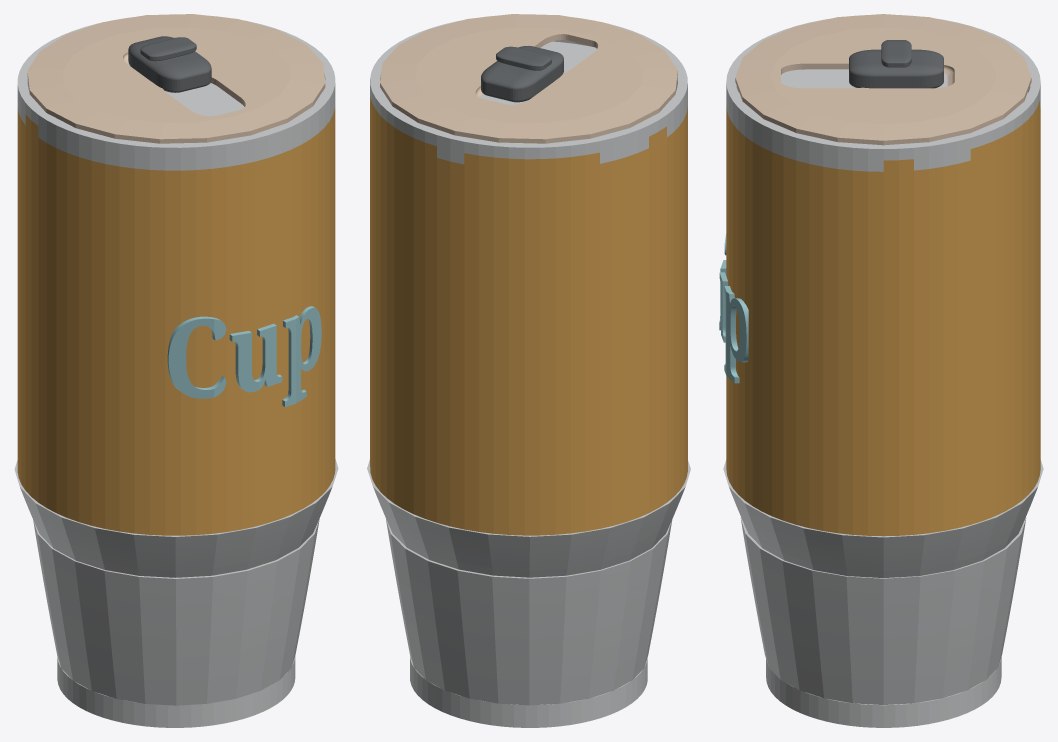
File: tumb.gltf
The picture shows the model from 3 angles, left to right: view 1: azimuth 30°, elevation 25°; view 2: azimuth 150°, elevation 25°; view 3: azimuth 270°, elevation 25°; orthographic projection.
Visible parts, largest first — view 1: Mesh_Mesh_head_geo001_lambert2SG001; view 2: Mesh_Mesh_head_geo001_lambert2SG001; view 3: Mesh_Mesh_head_geo001_lambert2SG001.
Boxes of the visible parts, x1=… form: Mesh_Mesh_head_geo001_lambert2SG001: x1=14, y1=14, x2=338, y2=727; Mesh_Mesh_head_geo001_lambert2SG001: x1=367, y1=14, x2=690, y2=727; Mesh_Mesh_head_geo001_lambert2SG001: x1=719, y1=14, x2=1043, y2=727.
Size of the model in its own units: 0.7125 by 1.52 by 0.7125.
